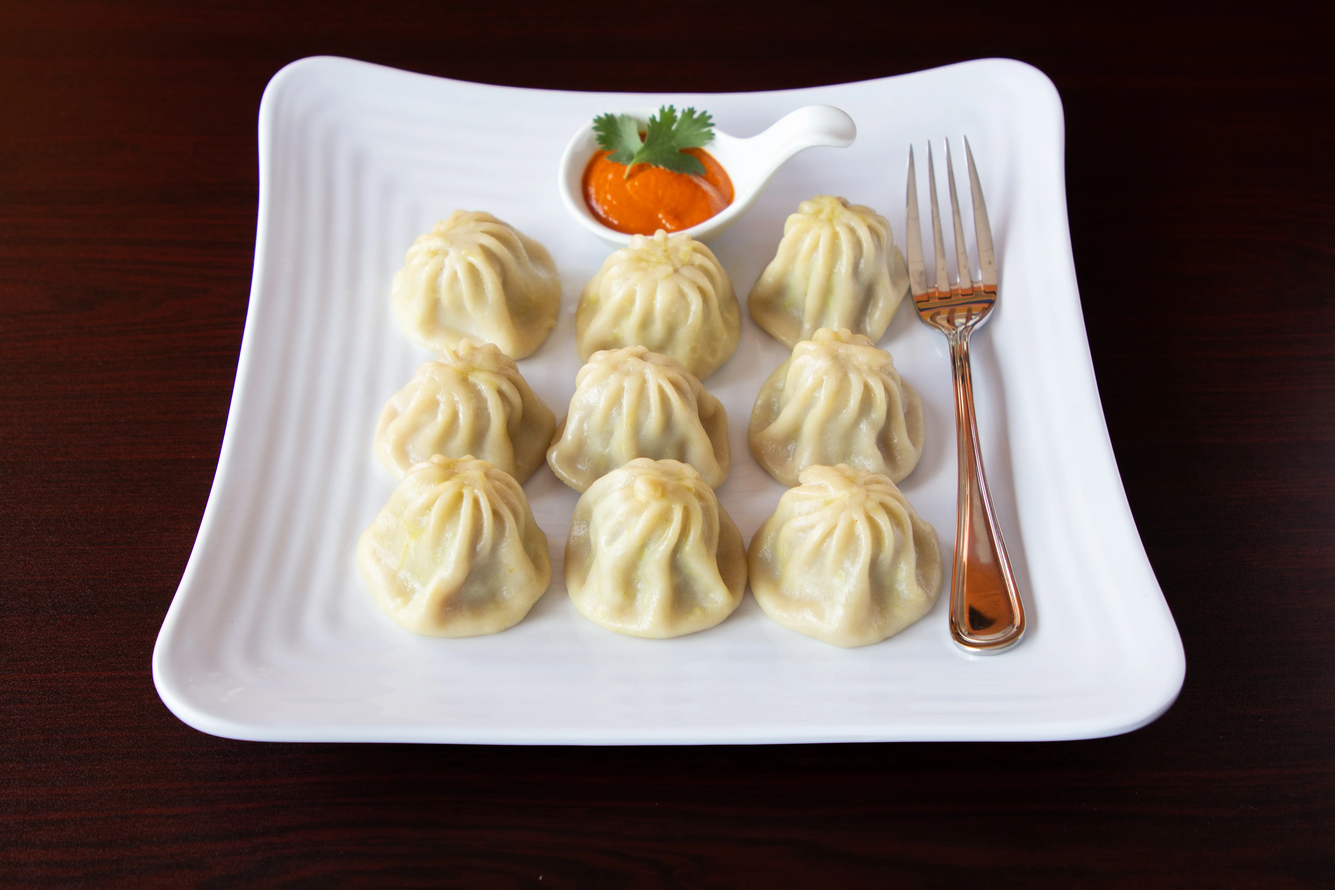momo: (741, 466, 949, 649), (349, 455, 553, 634), (565, 464, 746, 636), (741, 328, 926, 483), (549, 350, 734, 497), (365, 338, 554, 477), (388, 214, 564, 357), (755, 189, 906, 342), (584, 231, 741, 374)
